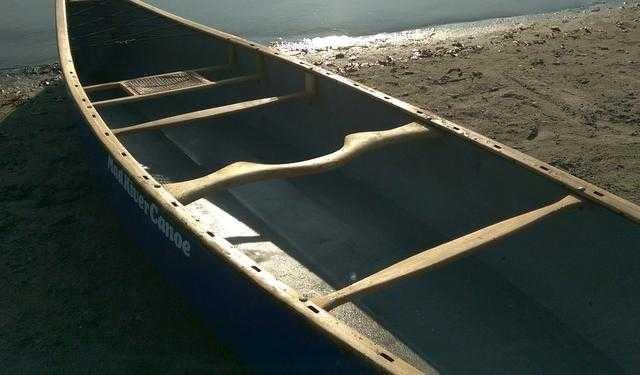kayak: (47, 0, 637, 371)
